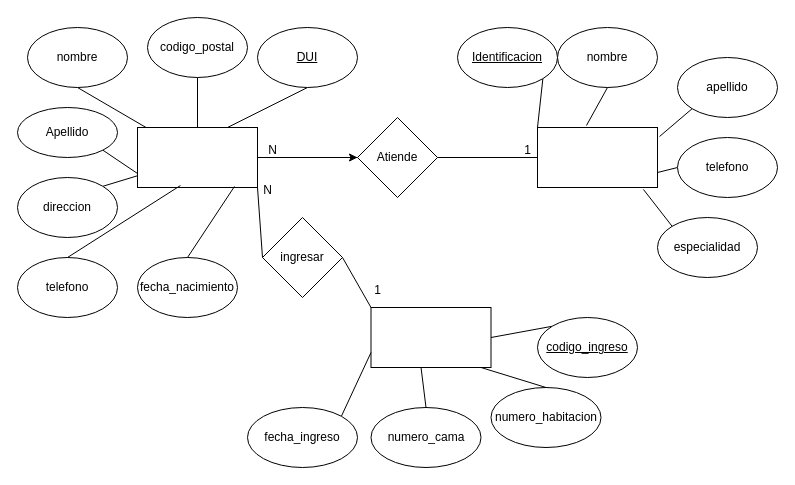
Image size: 795x485. Some labels were removed from this diagram. The centre of each missing label's shape, as x and y in pixels:
Clinica: the point at 430,337
Medico: the point at 597,157
paciente: the point at 197,157
